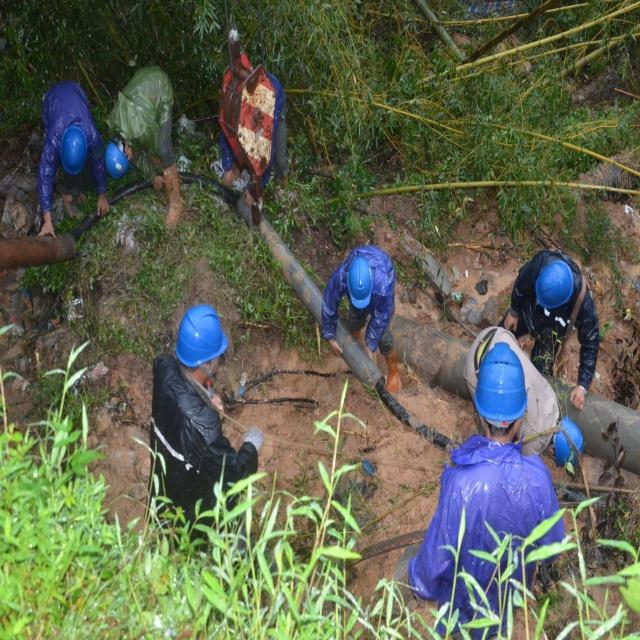helmet: (471, 453, 529, 596), (177, 401, 225, 520), (534, 342, 573, 422), (548, 552, 586, 631), (344, 337, 374, 419), (60, 160, 89, 237), (106, 176, 133, 243)
